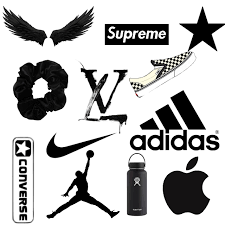adidas: (128, 89, 222, 151)
nike: (45, 132, 115, 159)
